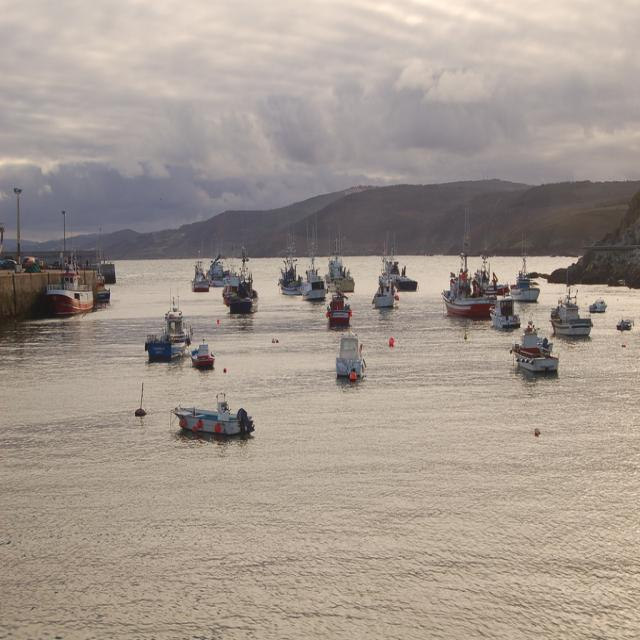Boat: (438, 213, 496, 320), (167, 404, 250, 450), (144, 283, 190, 364), (46, 242, 94, 318), (512, 305, 560, 374), (223, 236, 260, 314), (552, 268, 592, 340), (299, 210, 330, 300), (277, 217, 308, 297), (326, 213, 357, 291), (487, 272, 521, 334), (371, 236, 398, 308), (508, 238, 538, 302), (475, 240, 505, 300), (336, 331, 366, 379), (93, 229, 118, 284), (208, 229, 230, 290), (326, 281, 352, 332), (192, 235, 214, 292), (389, 251, 420, 290), (188, 334, 217, 368), (93, 266, 111, 302), (588, 288, 608, 312), (616, 320, 634, 328)
